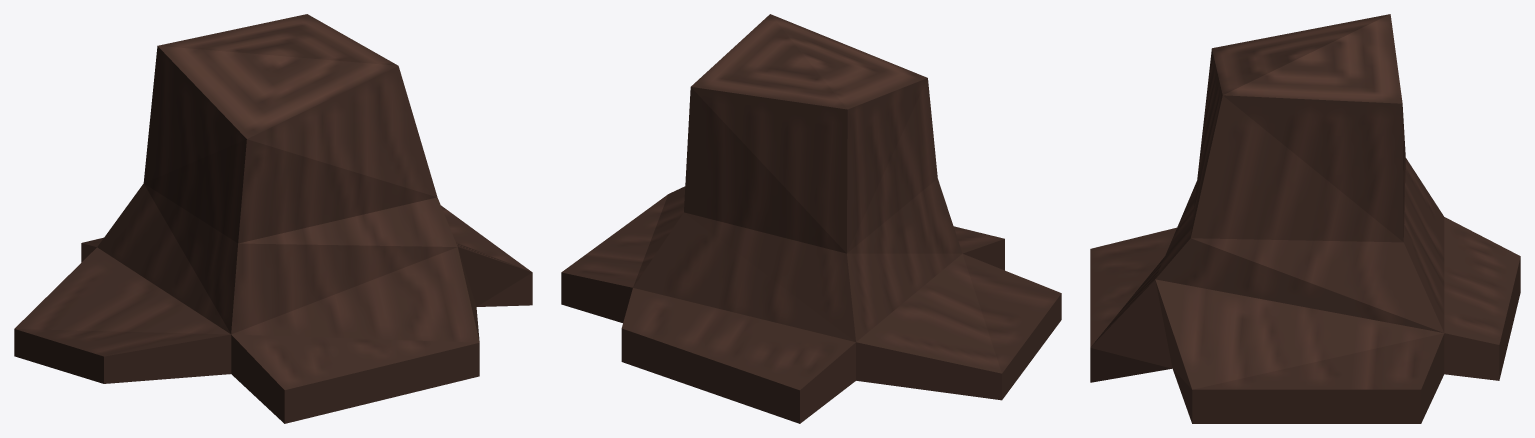
The model's file is forest_stump.fbx.
The picture shows the model from 3 angles, left to right: view 1: azimuth 30°, elevation 25°; view 2: azimuth 150°, elevation 25°; view 3: azimuth 270°, elevation 25°; orthographic projection. The views are drawn at different scales.
Parts seen in each view (by area): view 1: forest_stump_LOD0; view 2: forest_stump_LOD0; view 3: forest_stump_LOD0.
Boxes of the visible parts, bbox=[...] form: forest_stump_LOD0: bbox=[14, 14, 532, 423]; forest_stump_LOD0: bbox=[561, 14, 1061, 423]; forest_stump_LOD0: bbox=[1090, 14, 1520, 423].
Size of what is drawn, in the model's own units: 527 by 321 by 439.
